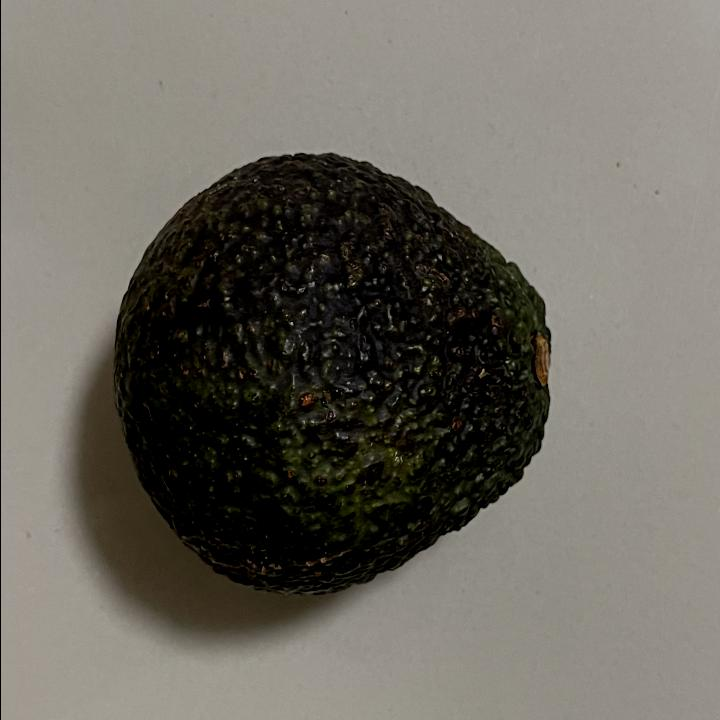Level1: (99, 136, 563, 608)
